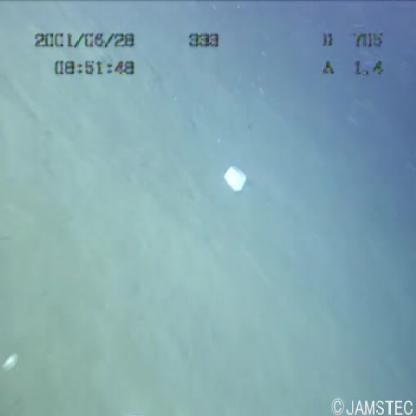Rác: (220, 160, 252, 194)
